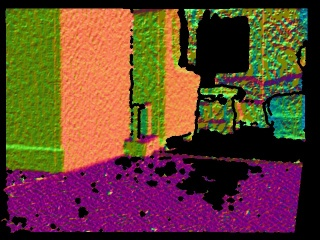station: (123, 102, 160, 158)
